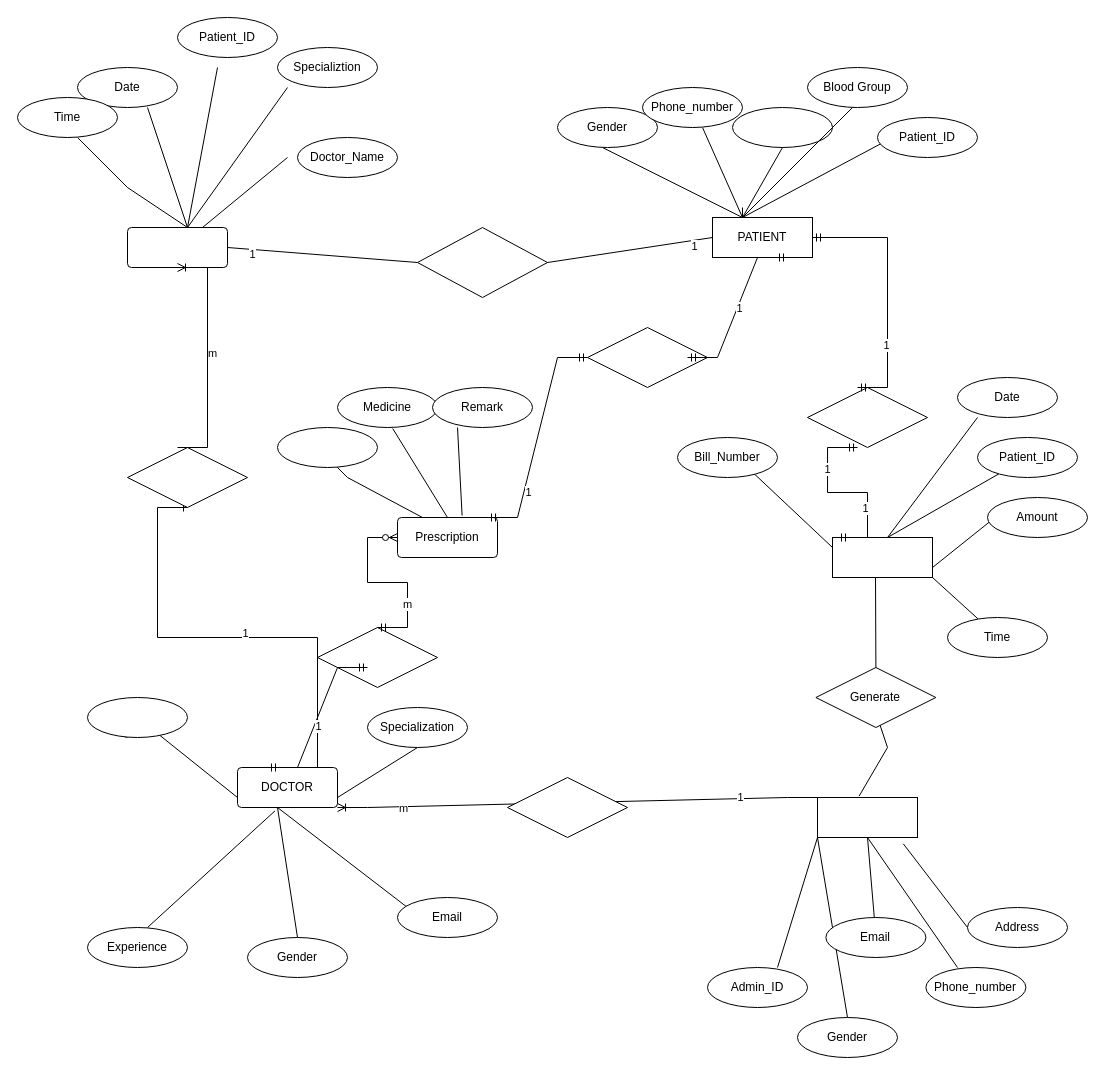
This 1105x1075 diagram has some shape labels left out. Here are the shapes that lost their labels. From the top down, the centre of each, then its label:
[782,127]: Patient_Name
[177,247]: APPOINTMENT
[482,262]: Requests
[647,357]: ISSUED_TO
[867,417]: Pay
[327,447]: Advice
[187,477]: CANCEL/CONFIRM
[882,557]: BILL
[377,657]: GIve
[137,717]: Doctor_ID
[567,807]: Add
[867,817]: ADMINSTRATION
